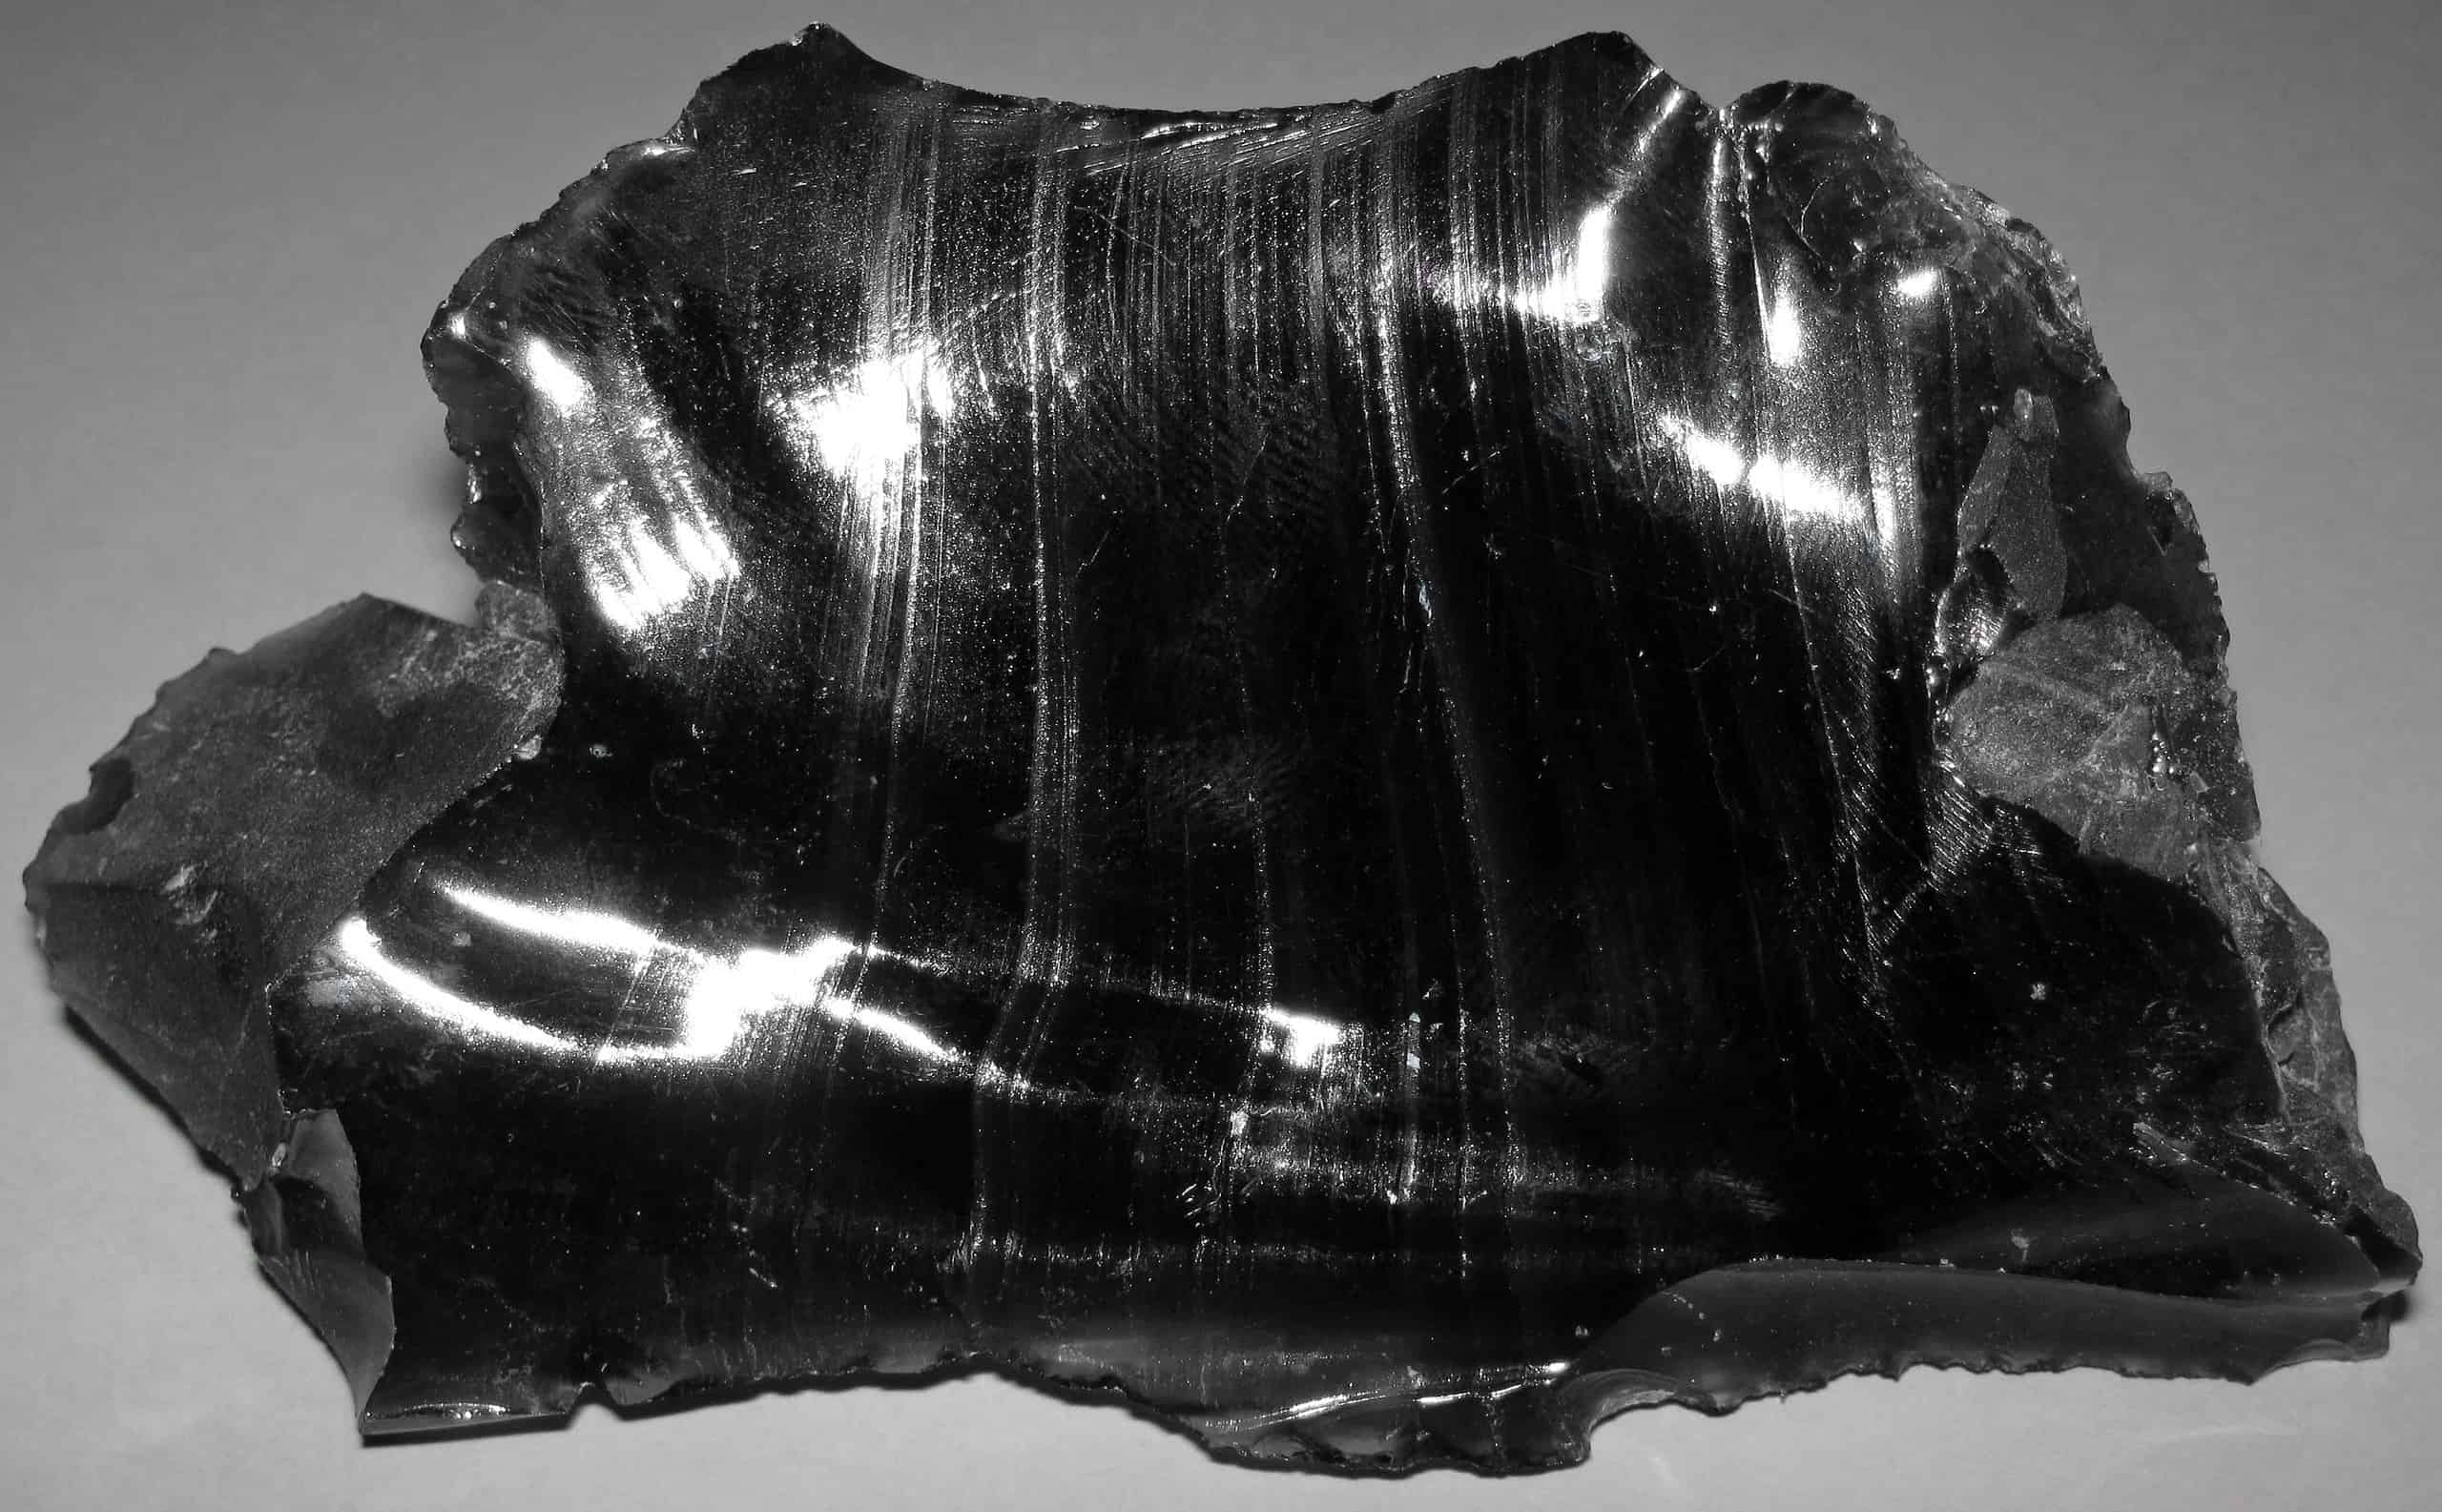Obsidian: (23, 24, 2439, 1475), (1238, 28, 1252, 78)
